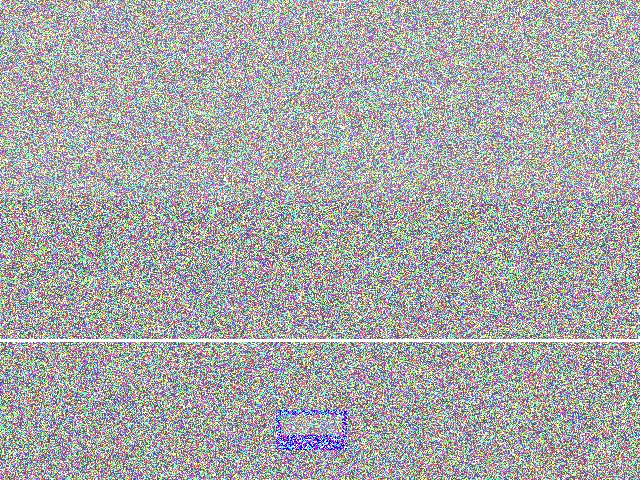bus: (64, 104, 183, 247), (263, 217, 355, 285)
motorcycle: (2, 191, 164, 249)
